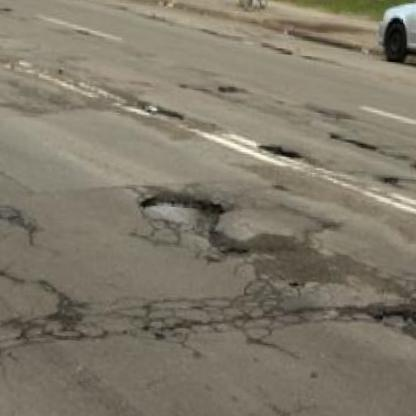pothole: (137, 192, 250, 259), (372, 300, 416, 336), (329, 132, 378, 154), (256, 141, 302, 163), (138, 98, 184, 120), (214, 85, 242, 94), (383, 175, 396, 185)
